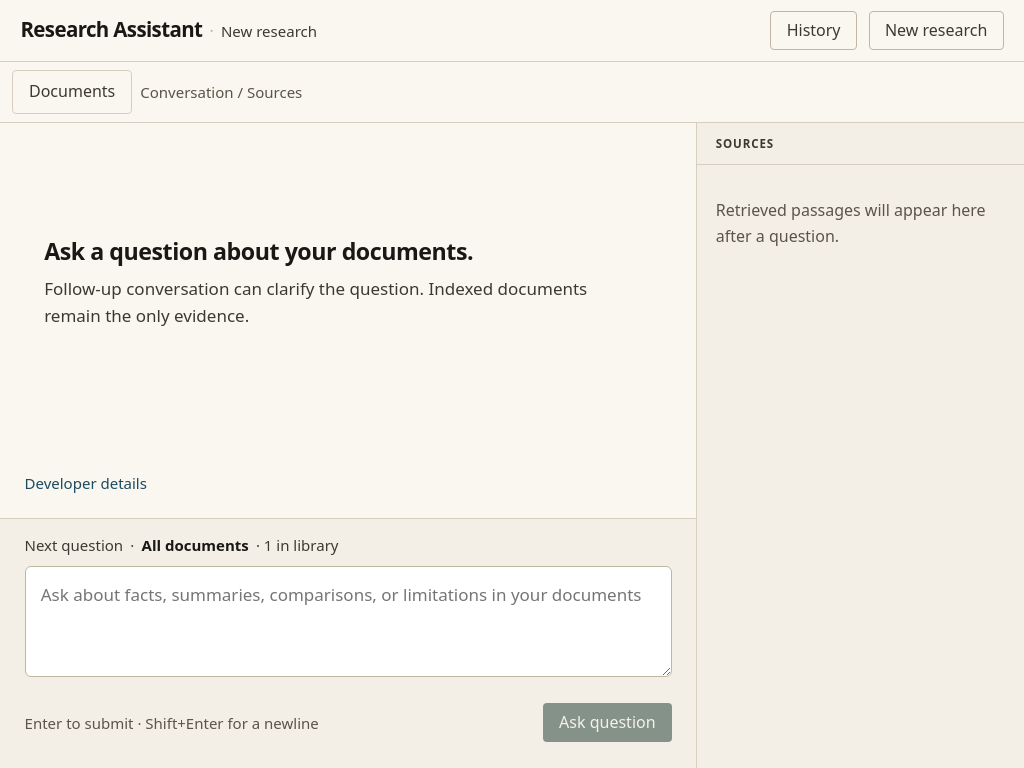
Scenario: App › composer submit › C: Ask question submits the typed text once
Type "Where did the depot open?" into the text box named "Research question" at (348, 622), box x1=25 y1=566 x2=672 y2=677
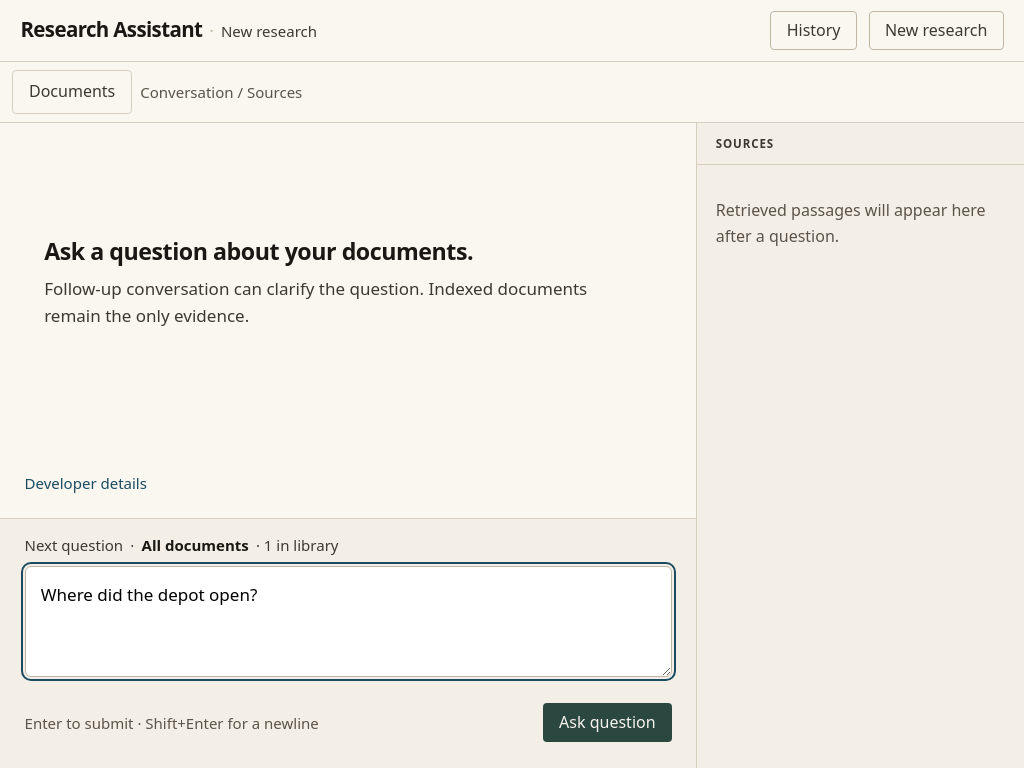
Click the button "Ask question" at (607, 723), box x1=543 y1=703 x2=672 y2=742
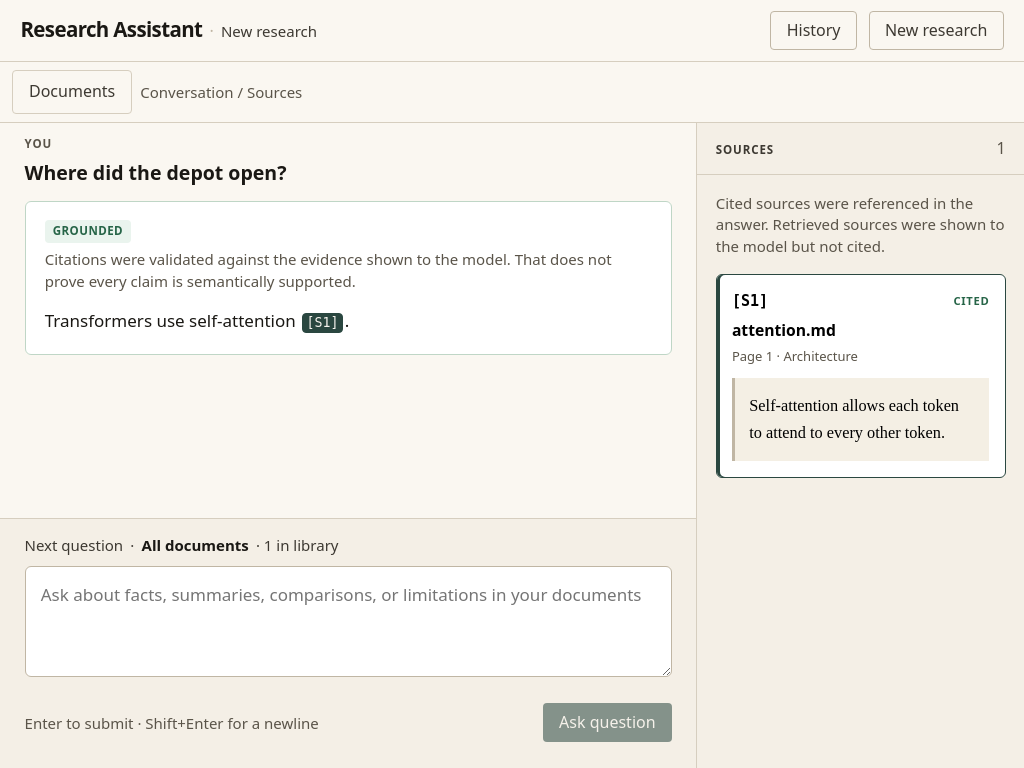
Expected: the text "Where did the depot open?" is shown, x1=25 y1=159 x2=286 y2=186
